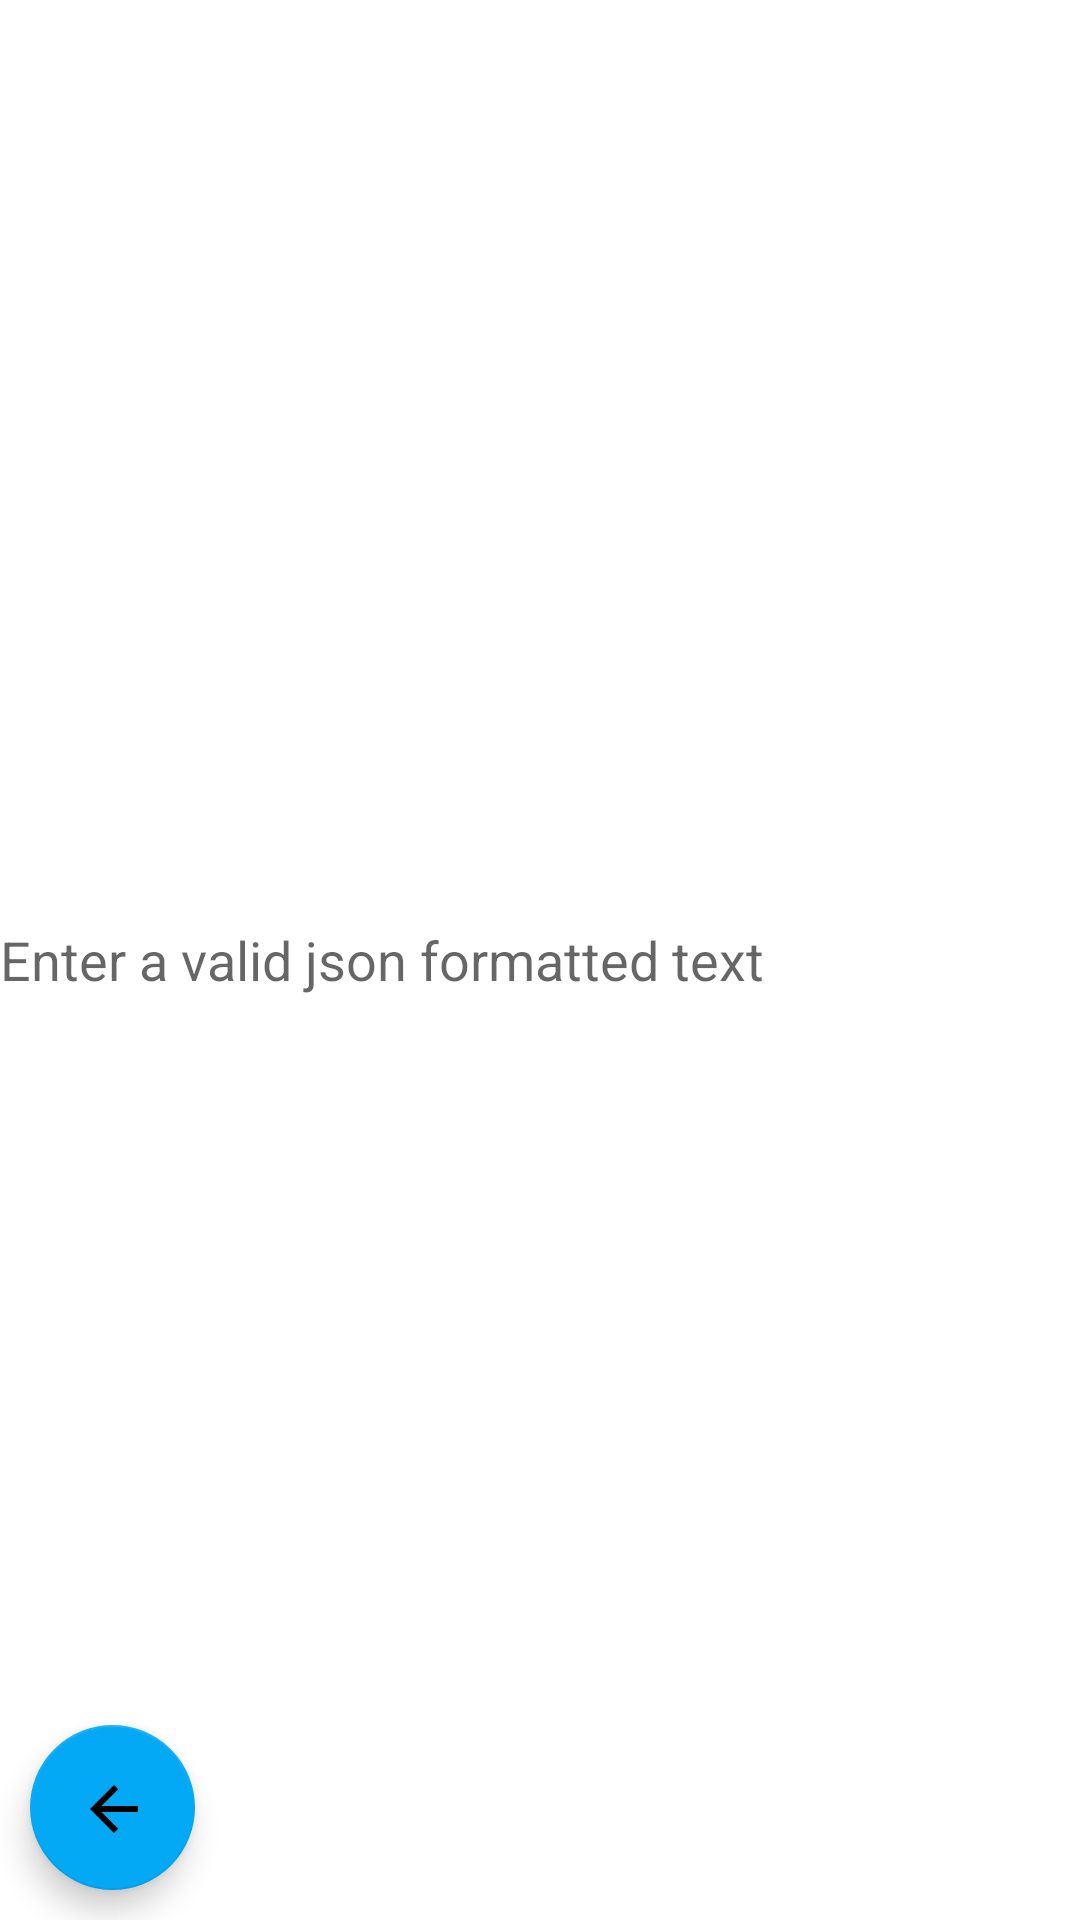

Icons on this 1080w x 1920h Android screen, each with the point to tap as (x=x, y=y):
arrow back: (x=112, y=1807)
